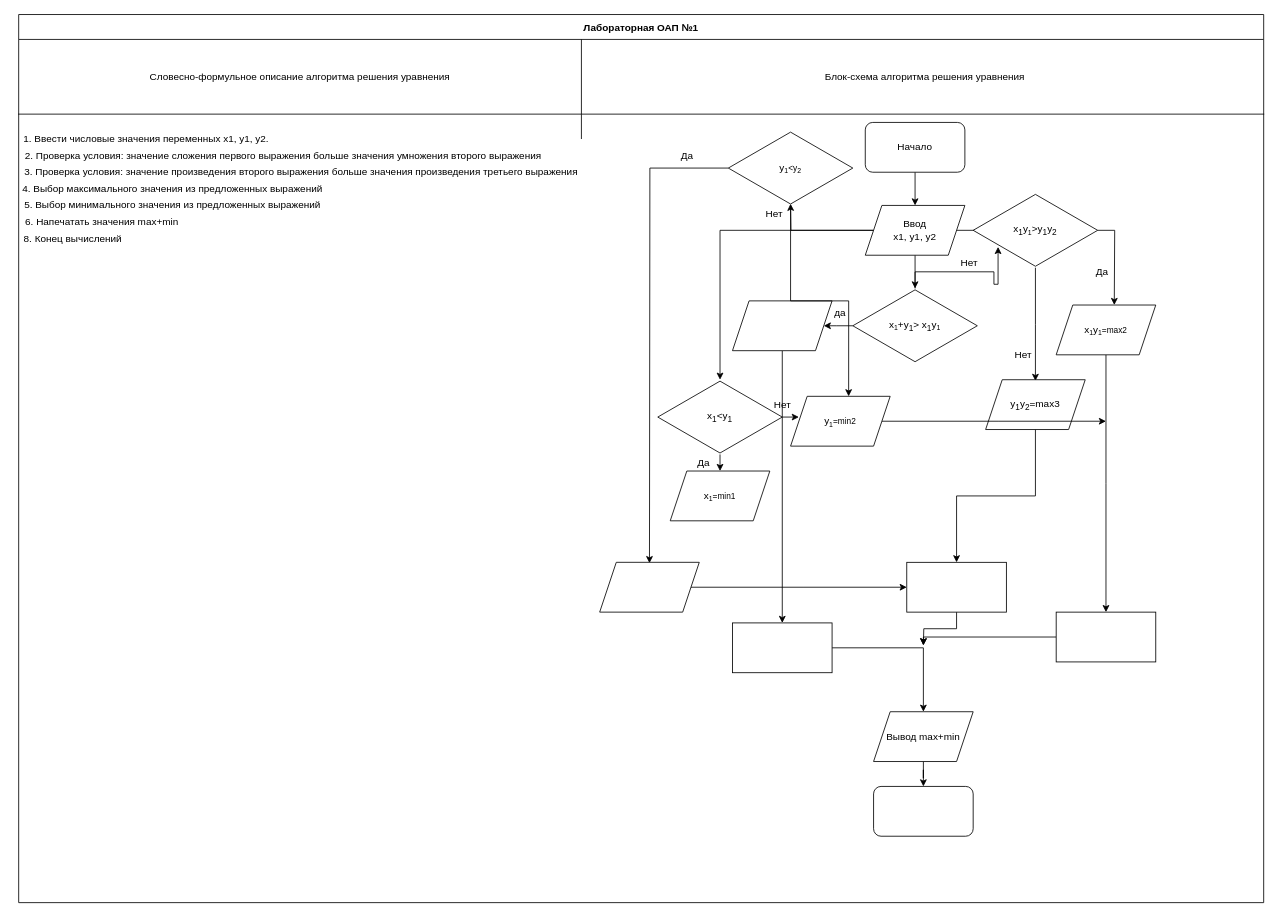
Some shapes in this 1278 by 917 pixel diagram are drawn without their labels. Here are the shapes that lost their labels. From the top down, the box of each, then its label:
(732, 300, 832, 351): x 1 +y 1 =max1
(599, 561, 699, 612): y 2 =min3
(906, 561, 1006, 612): max3+min3
(732, 622, 832, 673): max1+min1
(1055, 611, 1156, 662): max2+min2
(873, 786, 973, 836): Конец
